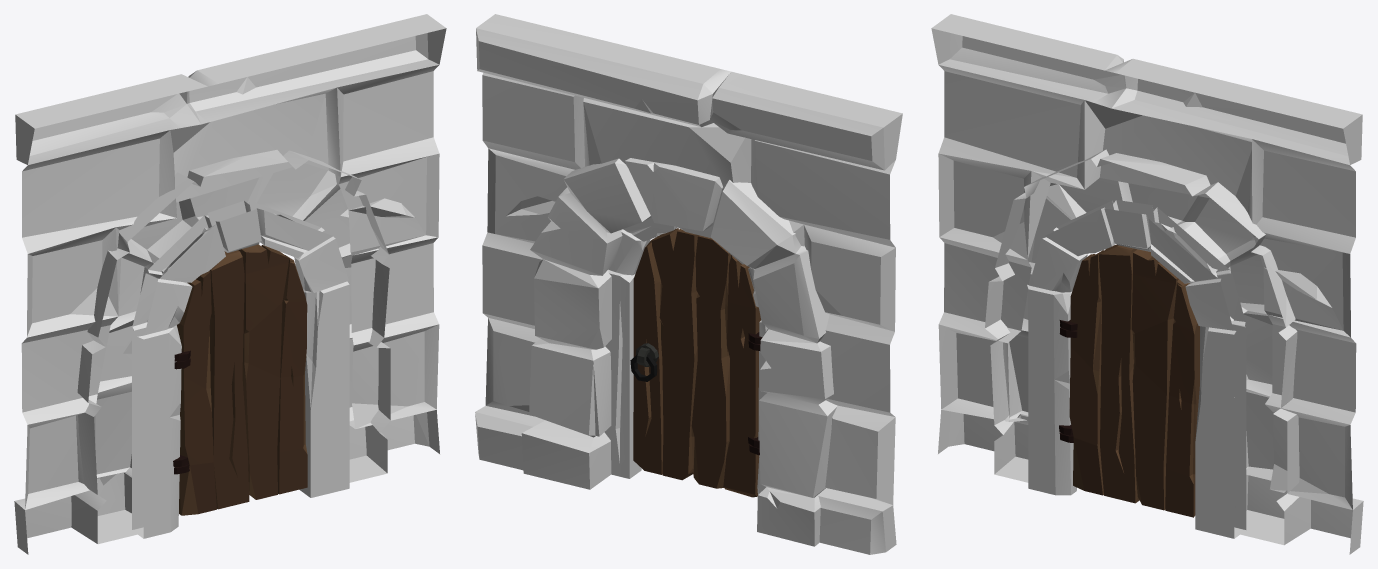
File: NGF_Env_Stone_doorway_on_the_foundation_03.fbx
The picture shows the model from 3 angles, left to right: view 1: azimuth 30°, elevation 25°; view 2: azimuth 150°, elevation 25°; view 3: azimuth 330°, elevation 25°; orthographic projection.
Parts seen in each view (by area): view 1: NGF_Env_Stone_doorway_on_the_foundation_03, NGF_Env_Door_arc_01, NGF_Env_Door_01; view 2: NGF_Env_Stone_doorway_on_the_foundation_03, NGF_Env_Door_01, NGF_Env_Door_arc_01; view 3: NGF_Env_Stone_doorway_on_the_foundation_03, NGF_Env_Door_01, NGF_Env_Door_arc_01.
Part boxes in pixels (x1,y1,x2,y2): NGF_Env_Stone_doorway_on_the_foundation_03: [14, 14, 446, 554]; NGF_Env_Door_arc_01: [132, 200, 349, 538]; NGF_Env_Door_01: [177, 244, 307, 515]; NGF_Env_Stone_doorway_on_the_foundation_03: [475, 14, 902, 554]; NGF_Env_Door_01: [633, 228, 760, 497]; NGF_Env_Door_arc_01: [604, 217, 767, 494]; NGF_Env_Stone_doorway_on_the_foundation_03: [931, 14, 1363, 554]; NGF_Env_Door_01: [1069, 244, 1199, 517]; NGF_Env_Door_arc_01: [1027, 200, 1246, 538].
Size of the model in its own units: 4 by 4 by 0.6399.
Materials: 1 (1 with a texture image).
